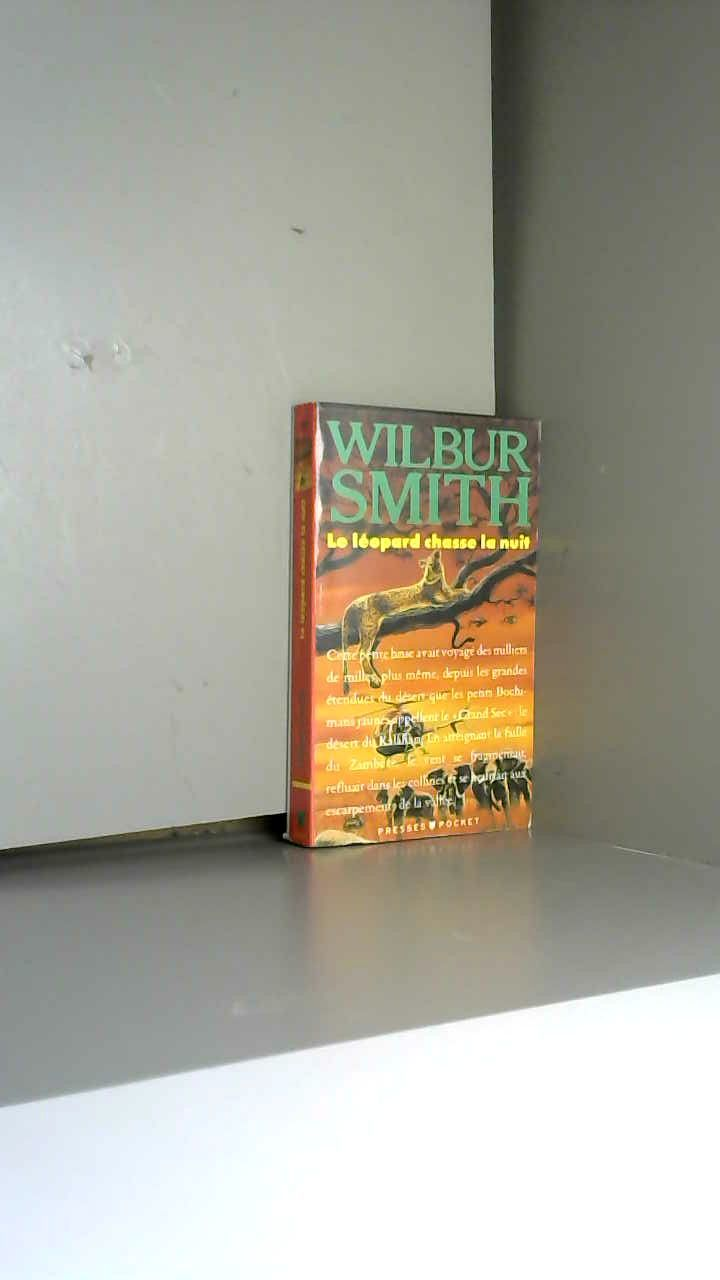book: (258, 364, 571, 883)
